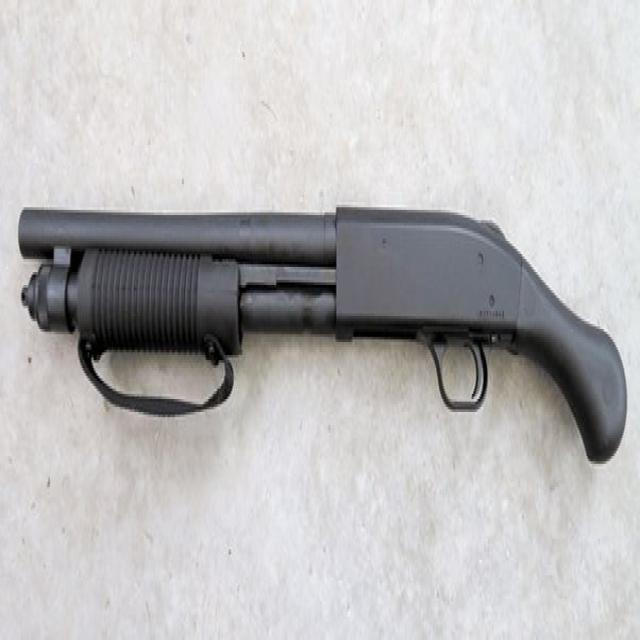ShotGun: (18, 207, 627, 466)
